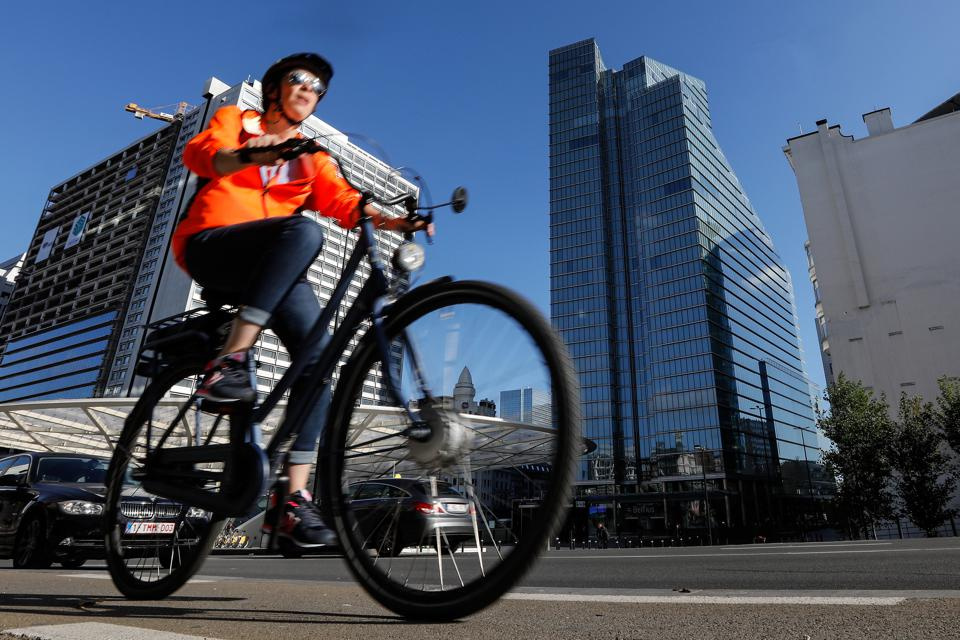helmet: (261, 52, 335, 119)
